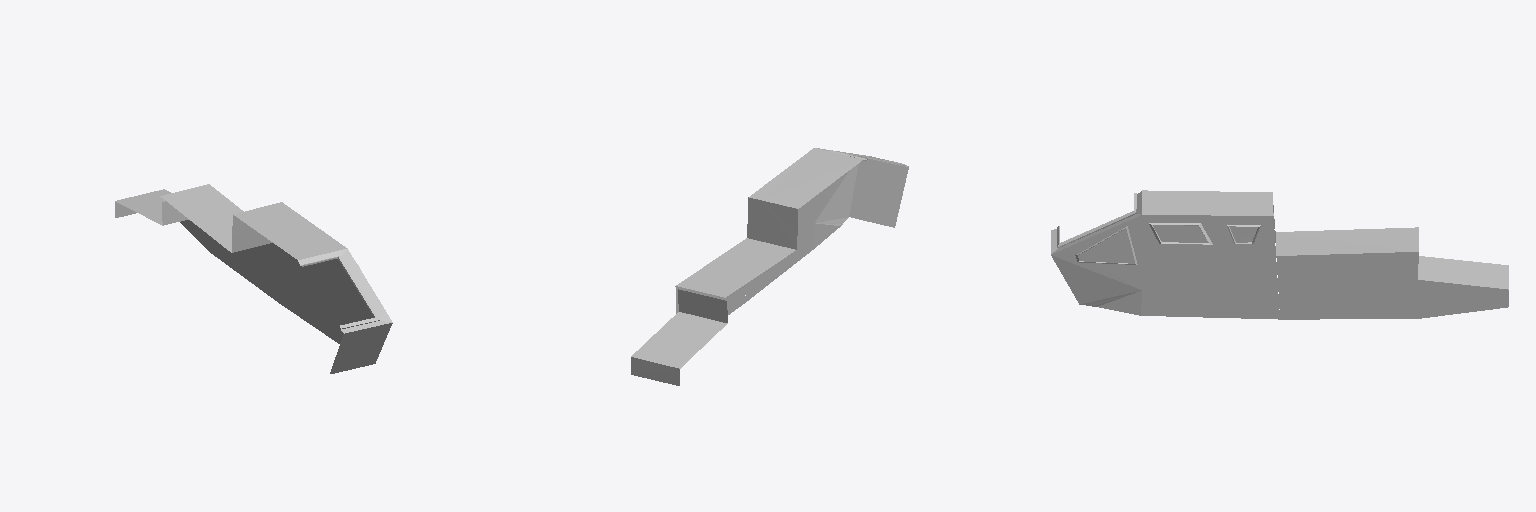
The model's file is ripsawnew.obj.
3 renders of one model, left to right at view 1: azimuth 30°, elevation 25°; view 2: azimuth 150°, elevation 25°; view 3: azimuth 270°, elevation 25°, orthographic.
Parts seen in each view (by area): view 1: default; view 2: default; view 3: default.
Boxes of the visible parts, x1,y1,x2,y2 form: default: [115, 184, 392, 373]; default: [631, 148, 908, 385]; default: [1051, 190, 1508, 319].
Bounding box in the file's own units: 0.8665 × 1.62 × 6.42.